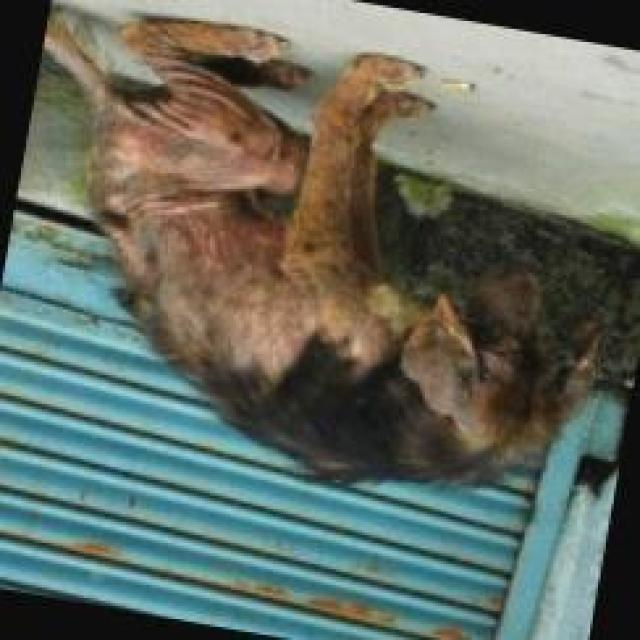fungal infection: (80, 68, 304, 292)
